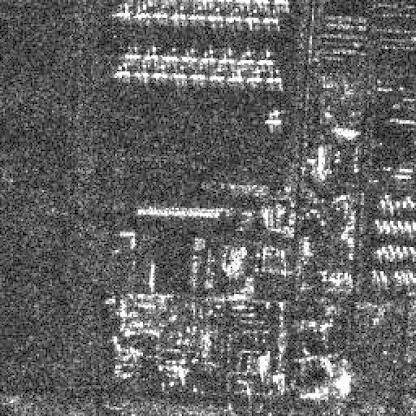airplane: (265, 107, 284, 125), (148, 64, 167, 80), (224, 68, 244, 83), (112, 62, 130, 78), (122, 45, 140, 61), (255, 50, 273, 66), (208, 5, 224, 23), (262, 8, 280, 24), (262, 69, 281, 84), (206, 67, 226, 81), (135, 3, 151, 20), (169, 65, 187, 80), (142, 45, 158, 61), (161, 45, 177, 61), (179, 47, 195, 63), (198, 47, 214, 63), (226, 6, 242, 22), (237, 50, 254, 65), (245, 68, 262, 83), (132, 65, 148, 80), (153, 3, 169, 18), (245, 8, 260, 24), (117, 3, 132, 18), (188, 66, 204, 80), (218, 49, 234, 63), (171, 6, 187, 20), (188, 7, 204, 21), (393, 198, 400, 212), (388, 250, 396, 262), (387, 198, 393, 212), (380, 245, 387, 255), (401, 245, 408, 255), (388, 219, 395, 229), (379, 197, 385, 208), (375, 249, 382, 258), (379, 270, 385, 280), (398, 268, 403, 280), (386, 244, 392, 254), (382, 218, 388, 228), (396, 218, 402, 228), (405, 193, 411, 203), (385, 224, 392, 232), (403, 275, 408, 286), (382, 274, 387, 284), (395, 274, 400, 284), (403, 219, 408, 229), (370, 270, 376, 278), (397, 250, 403, 258), (374, 218, 380, 226), (377, 224, 383, 232), (393, 223, 398, 232), (384, 192, 388, 203), (376, 274, 380, 284), (392, 270, 396, 280), (384, 250, 388, 260), (395, 246, 400, 254), (402, 198, 406, 208)
